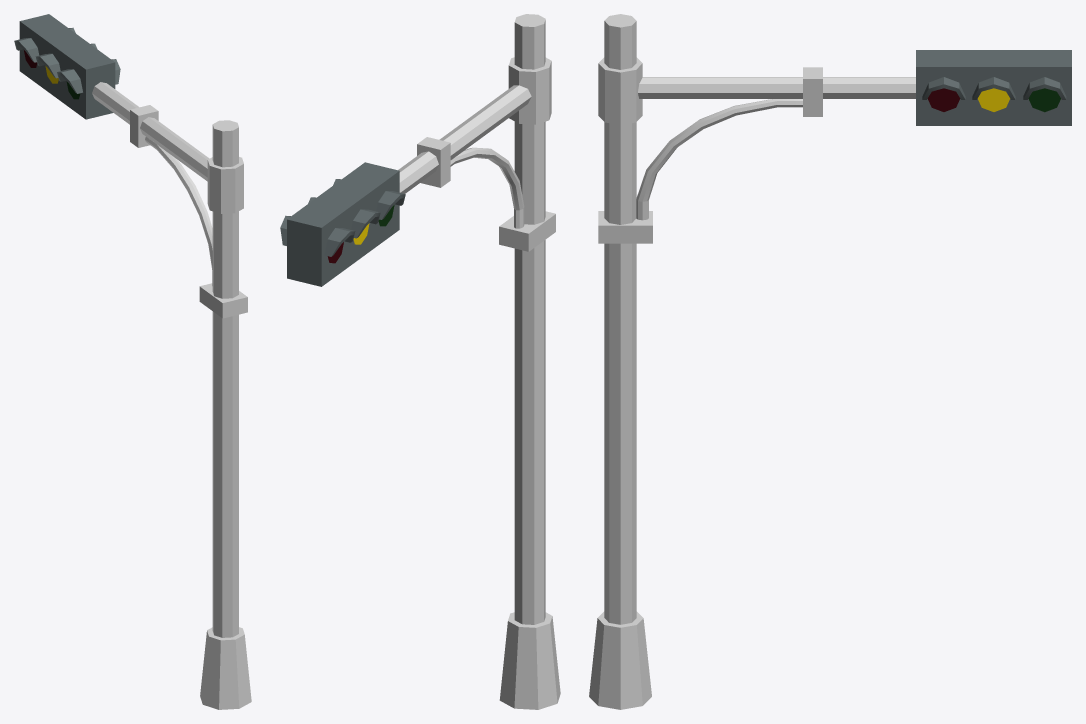
Rendered from Traffic_yellow.fbx.
The picture shows the model from 3 angles, left to right: view 1: azimuth 30°, elevation 25°; view 2: azimuth 150°, elevation 25°; view 3: azimuth 270°, elevation 25°; orthographic projection. The views are drawn at different scales.
Visible parts, largest first — view 1: Traffic_yellow; view 2: Traffic_yellow; view 3: Traffic_yellow.
Part boxes in pixels (x1,y1,x2,y2): Traffic_yellow: (14, 14, 251, 709); Traffic_yellow: (280, 14, 560, 709); Traffic_yellow: (589, 14, 1071, 709).
Bounding box in the file's own units: 77.75 × 776 × 503.
Materials: 1 (1 with a texture image).
